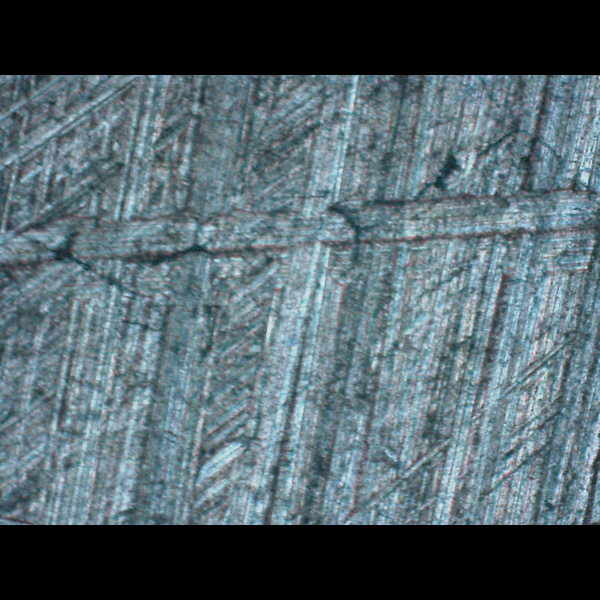d: (0, 124, 599, 278), (336, 324, 600, 524)
